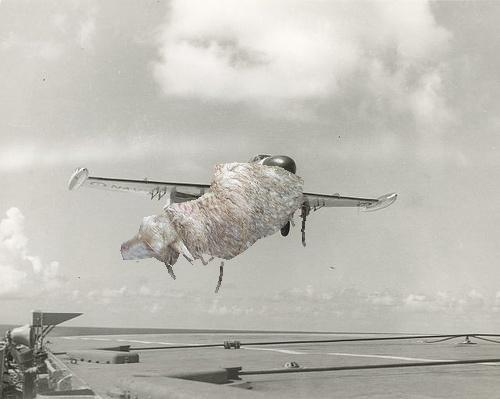tampered: (121, 163, 306, 293)
